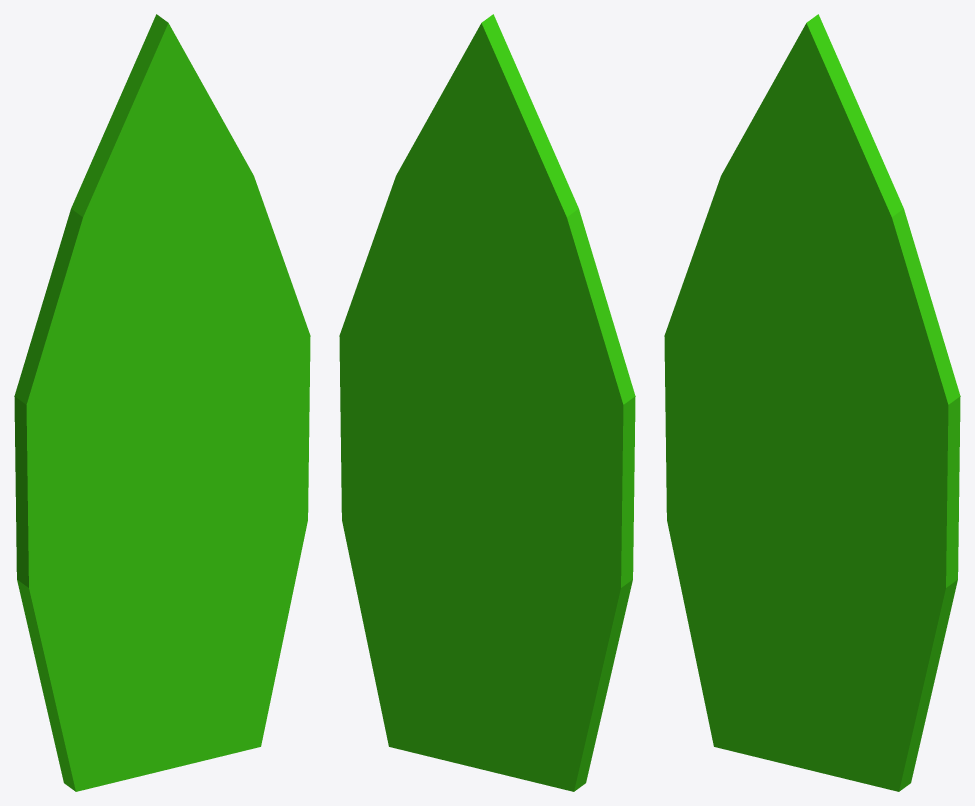
The model's file is Rigged Grass Export 52.fbx.
The picture shows the model from 3 angles, left to right: view 1: azimuth 30°, elevation 25°; view 2: azimuth 150°, elevation 25°; view 3: azimuth 330°, elevation 25°; orthographic projection.
Visible parts, largest first — view 1: Grass 2 Left; view 2: Grass 2 Left; view 3: Grass 2 Left.
Part boxes in pixels (x1,y1,x2,y2): Grass 2 Left: (14,14,310,791); Grass 2 Left: (339,14,635,791); Grass 2 Left: (664,14,960,791).
Bounding box in the file's own units: 140 × 353 × 10.34.
